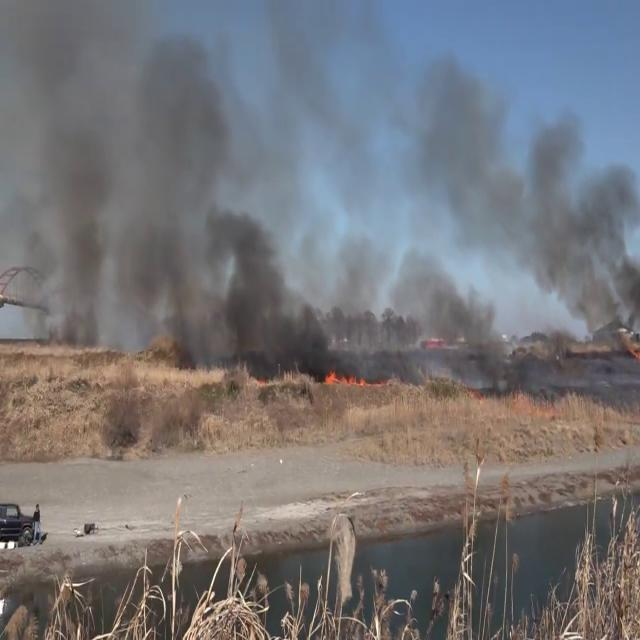Fire: (324, 364, 372, 392)
Smoke: (0, 0, 338, 386), (356, 58, 640, 377)
